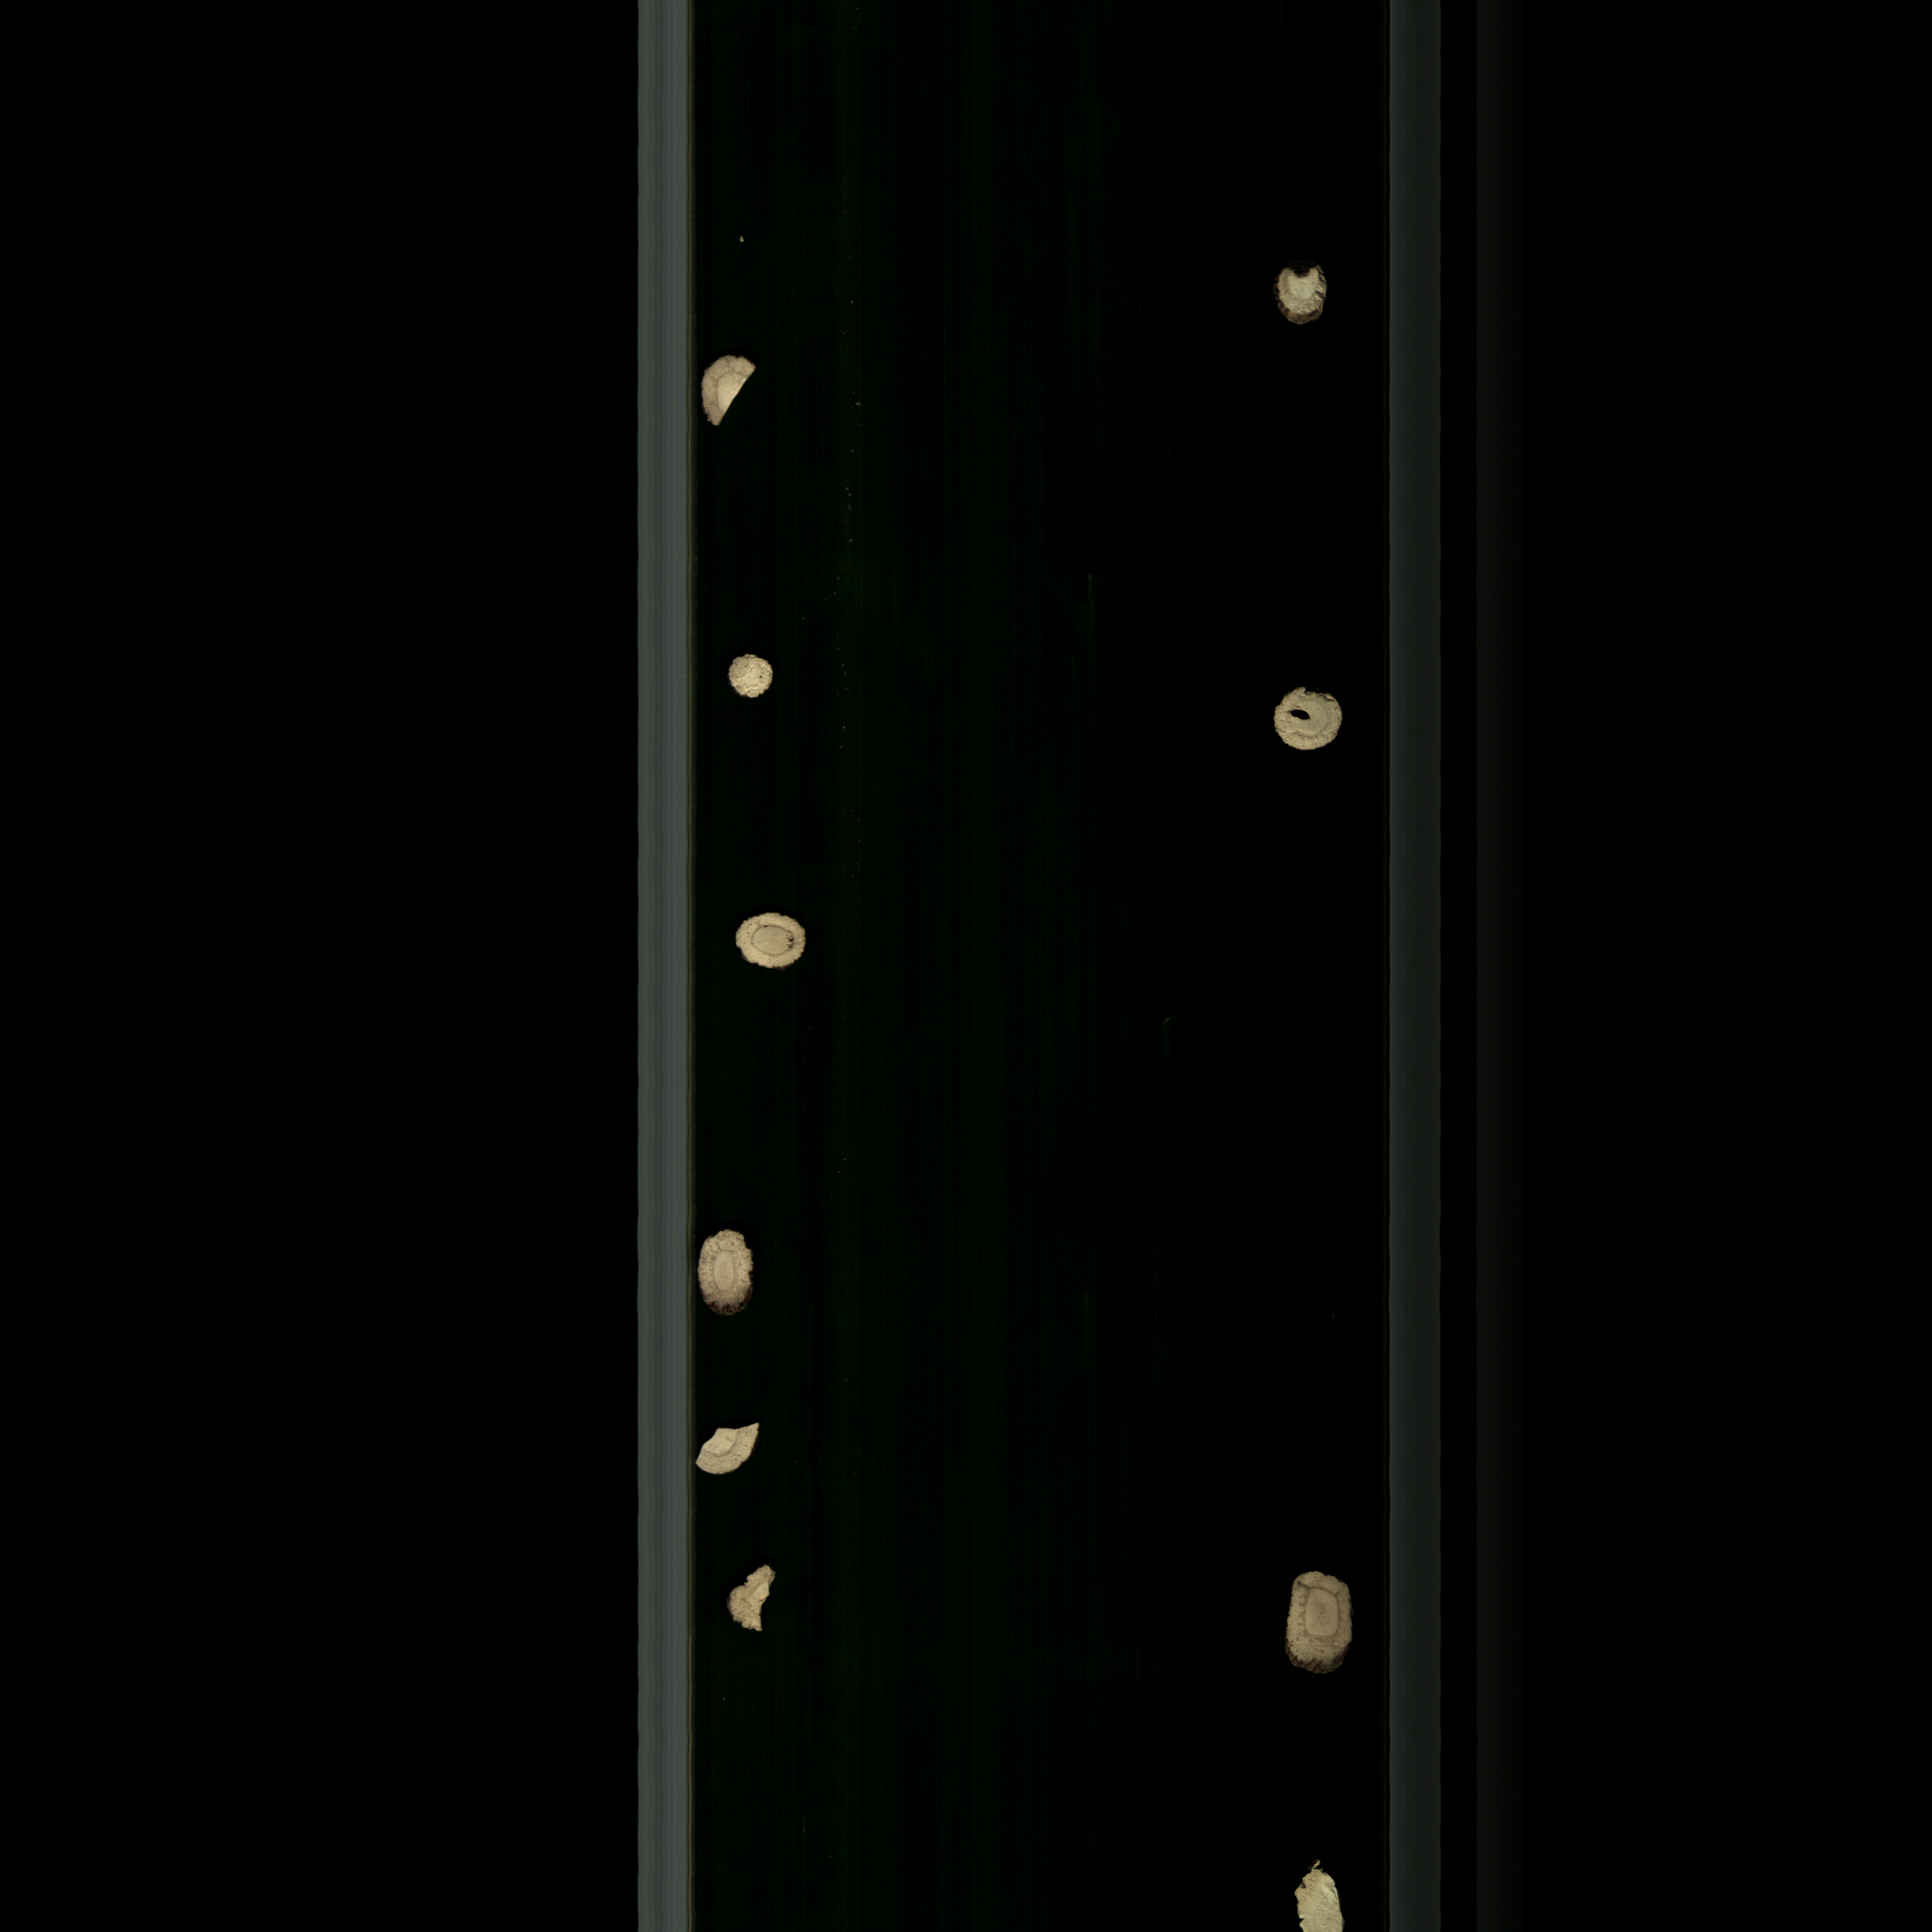debris: (1283, 1851, 1355, 1932), (690, 1417, 780, 1481)
distortion: (695, 1224, 764, 1320)
dreg: (722, 1568, 796, 1645)
hole: (1267, 686, 1359, 759), (725, 908, 814, 975)
moldy: (1283, 1562, 1362, 1681), (694, 338, 759, 435), (1263, 257, 1338, 324)
